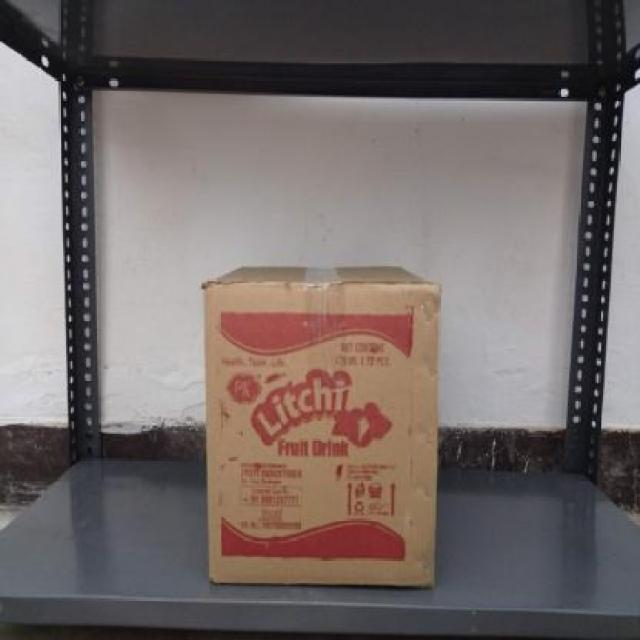box: (208, 287, 438, 581)
